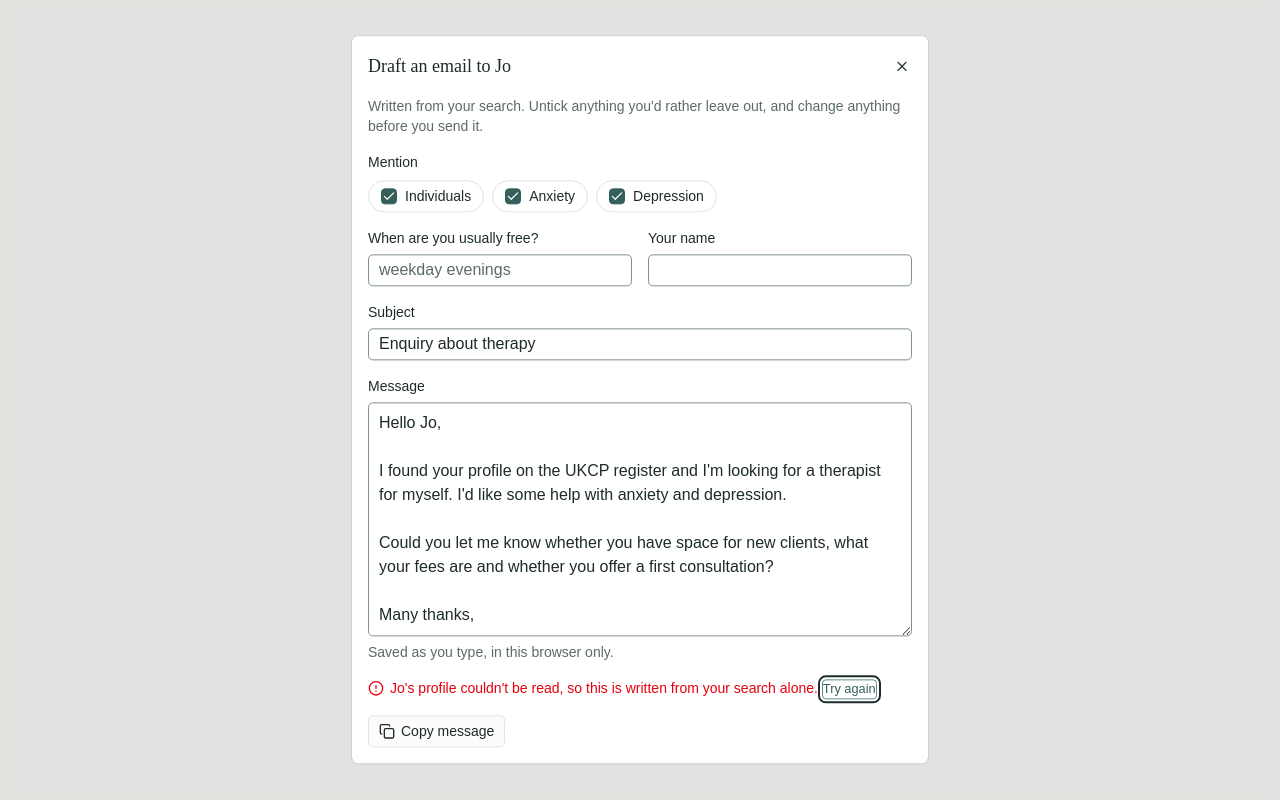
Test: EmailDrafter › gives the keyboard to the message once a retried profile arrives in place of Try again
What coordinates should you click on to do the following:
click the button "Try again"
I would click on:
 (849, 690)
Its box is [822,679,877,700].
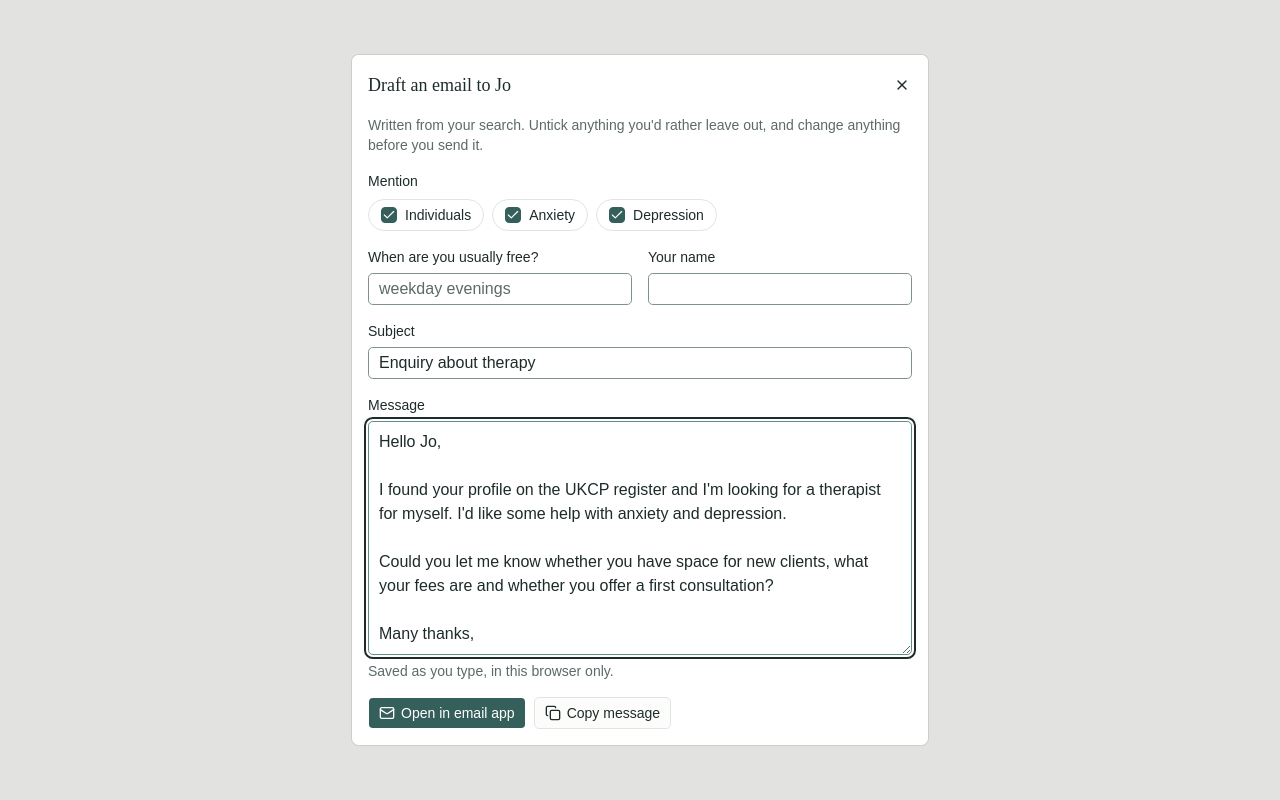
Check: the button "Try again" is gone
